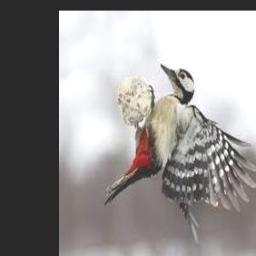Woodpecker: (103, 64, 256, 242)
